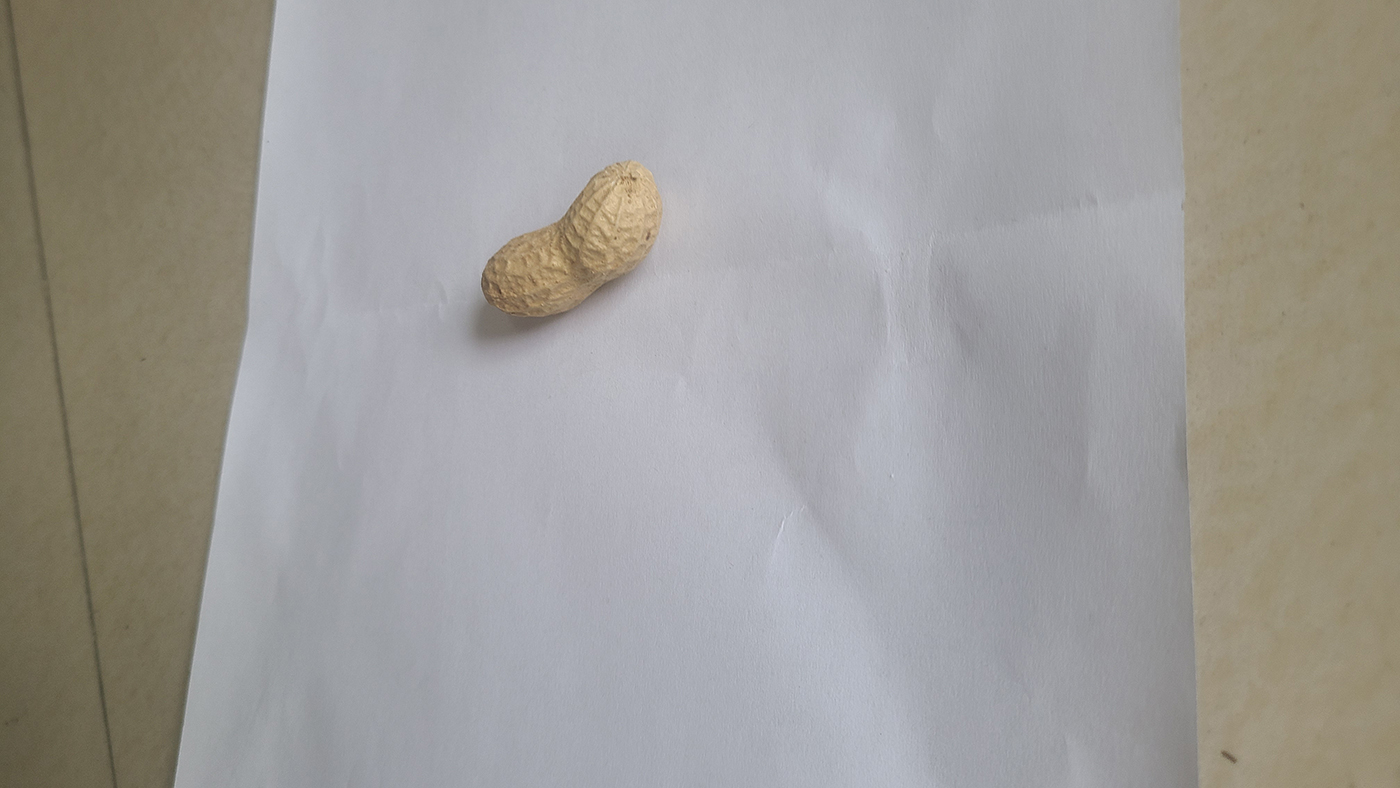h: (480, 159, 664, 321)
